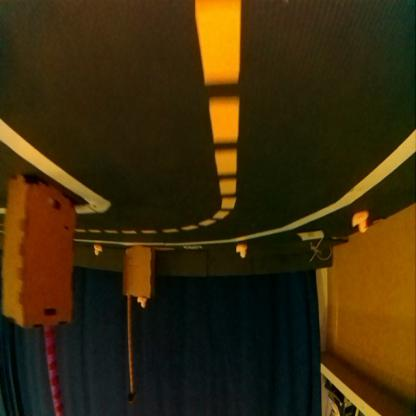Duckie: (351, 212, 369, 234), (236, 244, 245, 260), (93, 246, 100, 256), (137, 299, 144, 309)
QR code: (183, 246, 202, 252)
